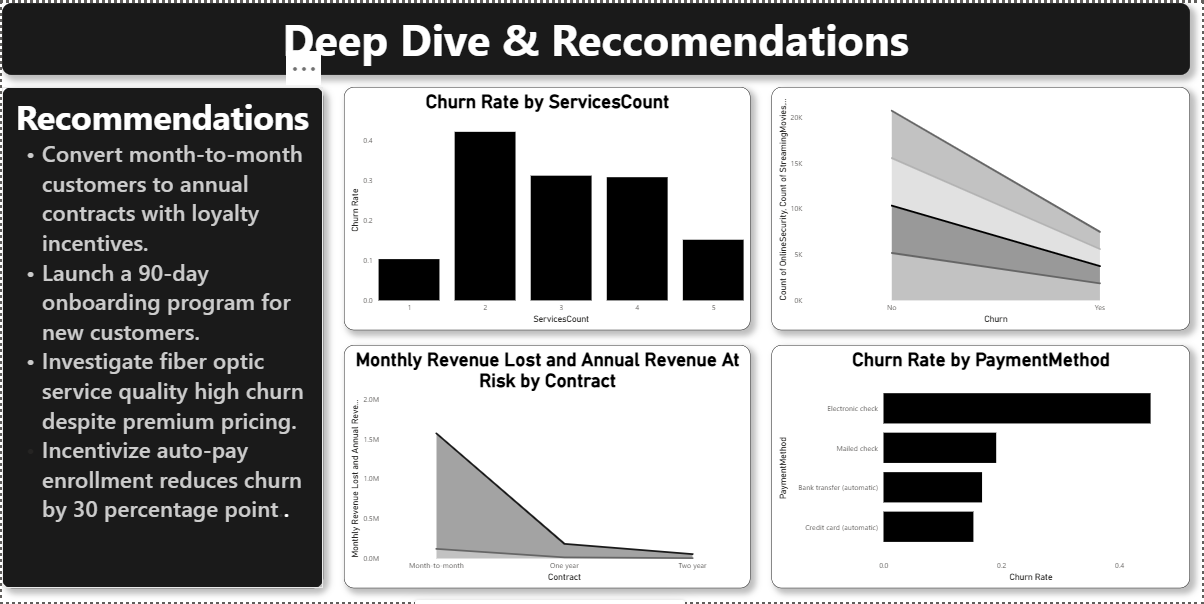

This screenshot's page, from the dashboard's own definition file:
{"tool":"powerbi","page":{"name":"Deep DIve & Recommendation","canvas":[2000,1000],"ordinal":1},"visuals":[{"type":"textbox","box":[0,0,290,280],"z":0},{"type":"textbox","box":[0,0,1980,120],"z":1},{"type":"barChart","fields":{"Category":["telco_churn.PaymentMethod"],"Y":["telco_churn.Churn Rate"]},"box":[1282.5,570,697.5,405],"z":2},{"type":"columnChart","fields":{"Category":["telco_churn.ServicesCount"],"Y":["telco_churn.Churn Rate"]},"box":[570,140,677.5,405],"z":3},{"type":"stackedAreaChart","fields":{"Category":["telco_churn.Churn"],"Y":["CountNonNull(telco_churn.OnlineSecurity)","CountNonNull(telco_churn.StreamingMovies)","CountNonNull(telco_churn.InternetService)","CountNonNull(telco_churn.StreamingTV)"]},"box":[1282.5,140,697.5,405],"z":4},{"type":"stackedAreaChart","fields":{"Category":["telco_churn.Contract"],"Y":["telco_churn.Monthly Revenue Lost","telco_churn.Annual Revenue At Risk"]},"box":[570,570,677.5,405],"z":5},{"type":"textbox","box":[0,140,535,835],"z":6}]}

Visuals, with their boxes in screenshot pixels (x1, y1, x2, y2), scaled from the page's 2000x1000 canvas onto the 1204x604 screenshot:
textbox: region(0, 0, 175, 169)
textbox: region(0, 0, 1192, 72)
barChart - telco_churn.PaymentMethod x telco_churn.Churn Rate: region(772, 344, 1192, 589)
columnChart - telco_churn.ServicesCount x telco_churn.Churn Rate: region(343, 85, 751, 329)
stackedAreaChart - telco_churn.Churn x CountNonNull(telco_churn.OnlineSecurity): region(772, 85, 1192, 329)
stackedAreaChart - telco_churn.Contract x telco_churn.Monthly Revenue Lost: region(343, 344, 751, 589)
textbox: region(0, 85, 322, 589)
